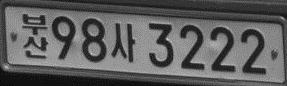2: (208, 25, 237, 73), (239, 27, 267, 75), (178, 23, 205, 71)
3: (147, 21, 174, 68)
8: (80, 16, 107, 63)
9: (50, 15, 76, 60)
부산_V: (21, 12, 48, 58)
사: (110, 22, 136, 62)
